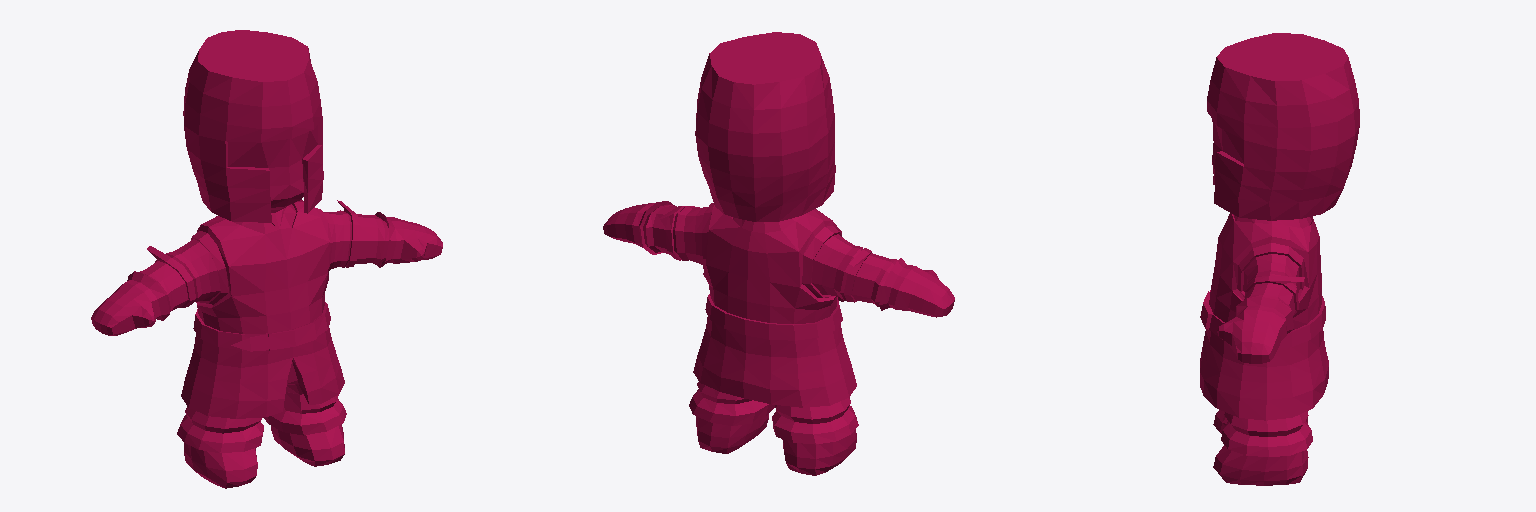
The model's file is CrusaderSmooth.obj.
The picture shows the model from 3 angles: view 1: azimuth 30°, elevation 25°; view 2: azimuth 150°, elevation 25°; view 3: azimuth 270°, elevation 25°; orthographic projection.
Parts seen in each view (by area): view 1: Crusader; view 2: Crusader; view 3: Crusader.
Part boxes in pixels (bbox=[...]): Crusader: bbox=[91, 30, 442, 488]; Crusader: bbox=[603, 32, 954, 475]; Crusader: bbox=[1200, 33, 1359, 485].
Size of the model in its own units: 130 by 144 by 52.66.